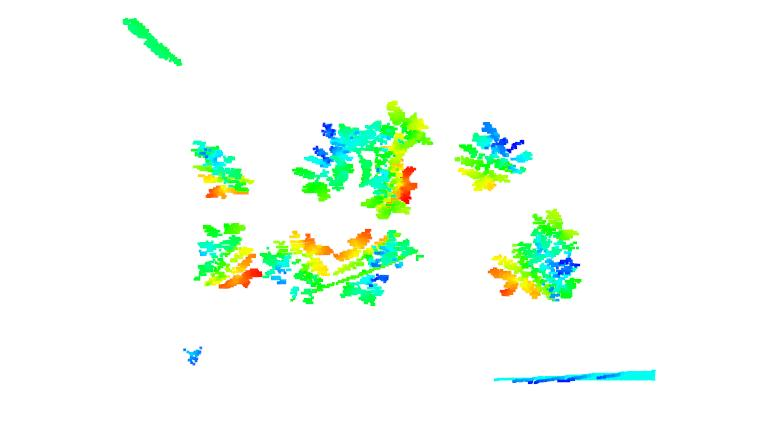chickpea: (488, 206, 581, 303), (360, 101, 429, 220), (289, 118, 378, 199), (334, 228, 422, 307), (259, 231, 336, 307), (453, 122, 532, 193), (189, 221, 265, 294), (188, 139, 256, 202)
